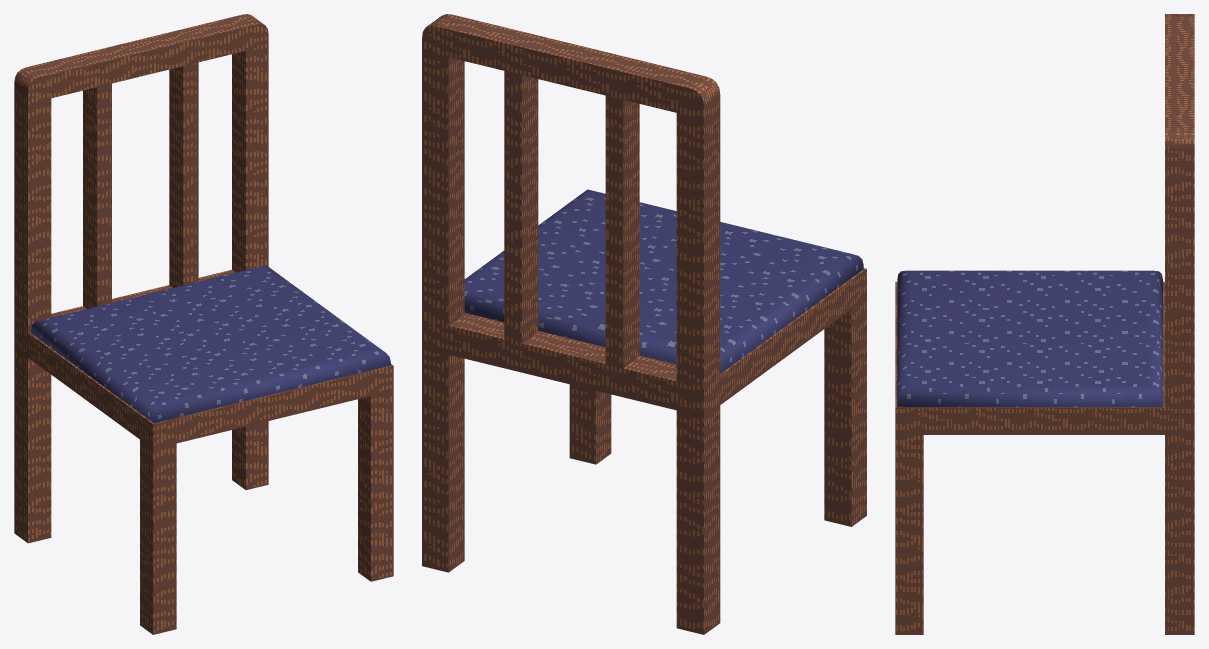
Rendered from Cadeira.fbx.
3 renders of one model, left to right at view 1: azimuth 30°, elevation 25°; view 2: azimuth 150°, elevation 25°; view 3: azimuth 270°, elevation 25°, orthographic. The views are drawn at different scales.
Parts seen in each view (by area): view 1: Box002; view 2: Box002; view 3: Box002.
Part boxes in pixels (box(x1,y1,x2,y2)): Box002: box(14, 14, 393, 634); Box002: box(422, 14, 866, 634); Box002: box(895, 14, 1194, 634).
Bounding box in the file's own units: 11 × 20.24 × 11.
Materials: 2 (2 with a texture image).
